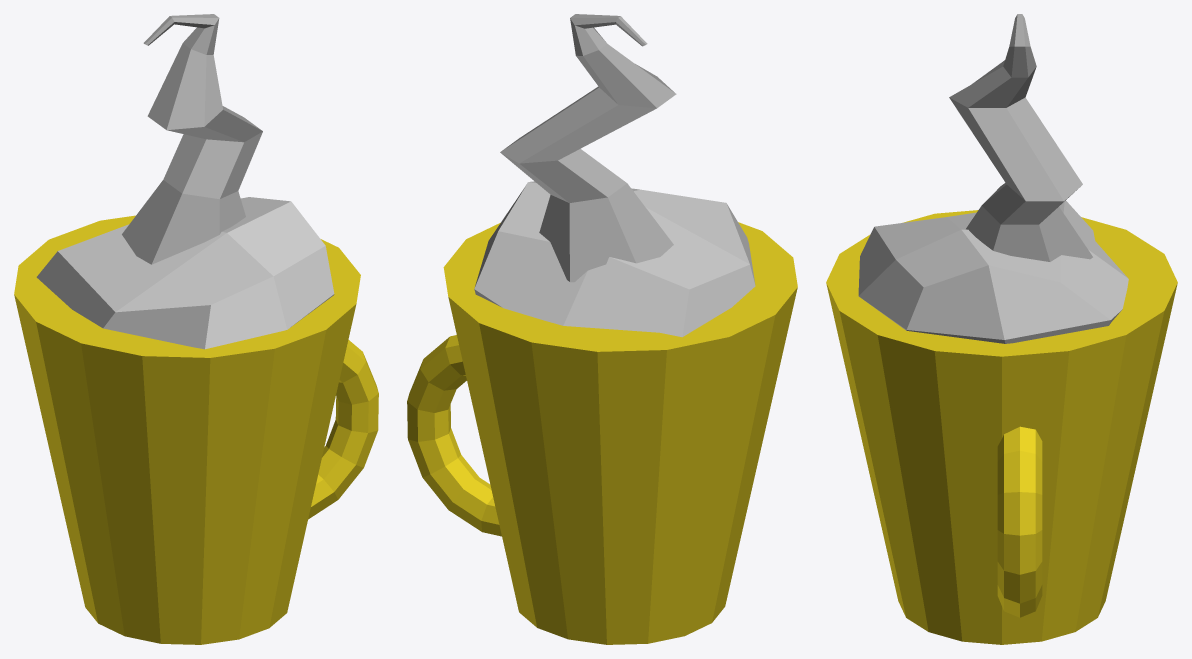
Rendered from Coffee.fbx.
The picture shows the model from 3 angles, left to right: view 1: azimuth 30°, elevation 25°; view 2: azimuth 150°, elevation 25°; view 3: azimuth 270°, elevation 25°; orthographic projection. The views are drawn at different scales.
Visible parts, largest first — view 1: Cylinder.051; view 2: Cylinder.051; view 3: Cylinder.051.
Part boxes in pixels (left/top/right/bottom): Cylinder.051: left=14, top=14, right=378, bottom=644; Cylinder.051: left=407, top=14, right=797, bottom=644; Cylinder.051: left=826, top=14, right=1177, bottom=644.
Size of the model in its own units: 231 by 366 by 200.
